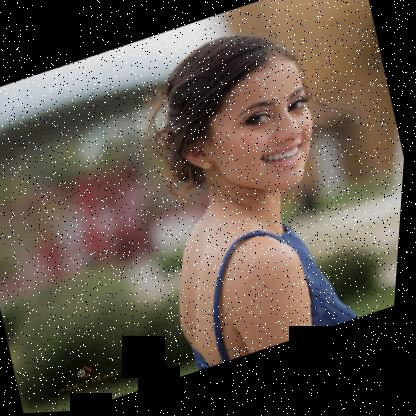Female: (163, 53, 334, 221)
